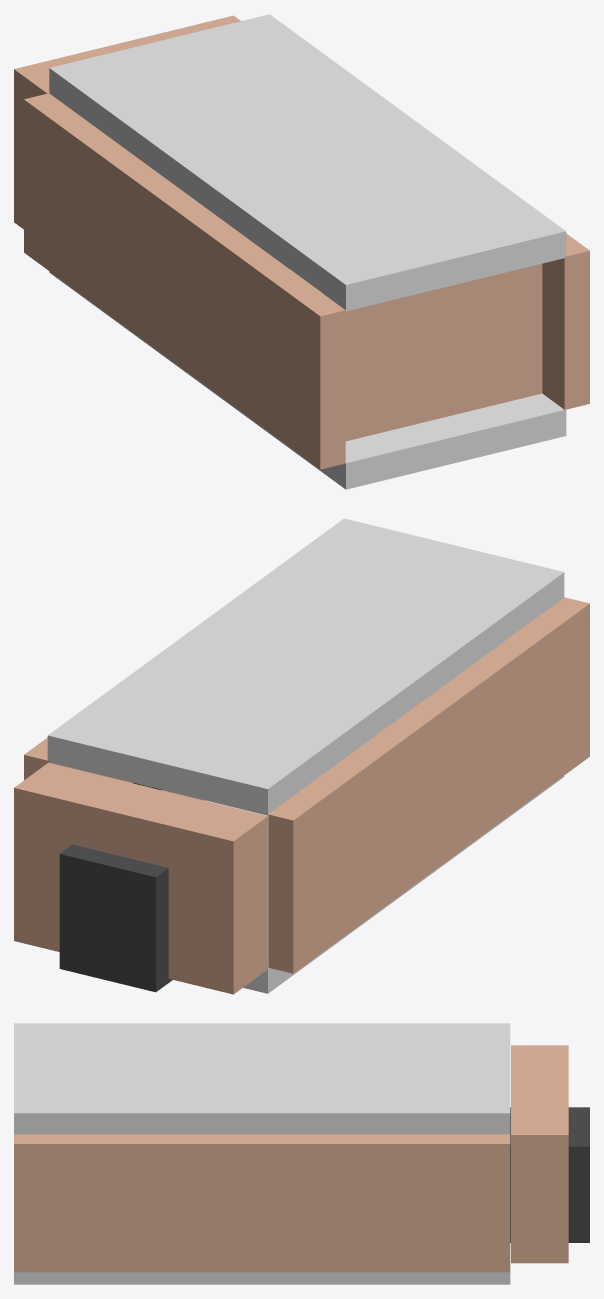
Rendered from hall.glb.
The picture shows the model from 3 angles, top to bottom: view 1: azimuth 30°, elevation 25°; view 2: azimuth 150°, elevation 25°; view 3: azimuth 270°, elevation 25°; orthographic projection. The views are drawn at different scales.
Parts seen in each view (by area): view 1: Cube.008, Cube.002, Cube.004, Cube, Cube.001, Cube.003; view 2: Cube.008, Cube.002, Cube.003, Cube.006, Cube, Cube.001; view 3: Cube.001, Cube.008, Cube.003, Cube, Cube.006.
Part boxes in pixels (bbox=[...]): Cube.008: bbox=[49, 14, 566, 311]; Cube.002: bbox=[24, 93, 345, 469]; Cube.004: bbox=[289, 263, 542, 441]; Cube: bbox=[49, 271, 566, 489]; Cube.001: bbox=[542, 233, 589, 409]; Cube.003: bbox=[14, 15, 240, 229]; Cube.008: bbox=[47, 518, 564, 815]; Cube.002: bbox=[268, 597, 589, 973]; Cube.003: bbox=[14, 762, 267, 994]; Cube.006: bbox=[59, 844, 172, 992]; Cube: bbox=[204, 776, 564, 993]; Cube.001: bbox=[24, 737, 204, 800]; Cube.001: bbox=[14, 1134, 510, 1272]; Cube.008: bbox=[14, 1023, 510, 1134]; Cube.003: bbox=[511, 1045, 568, 1263]; Cube: bbox=[14, 1272, 510, 1284]; Cube.006: bbox=[510, 1107, 589, 1242].
Size of the model in its own units: 1.05 by 0.7616 by 2.32.
